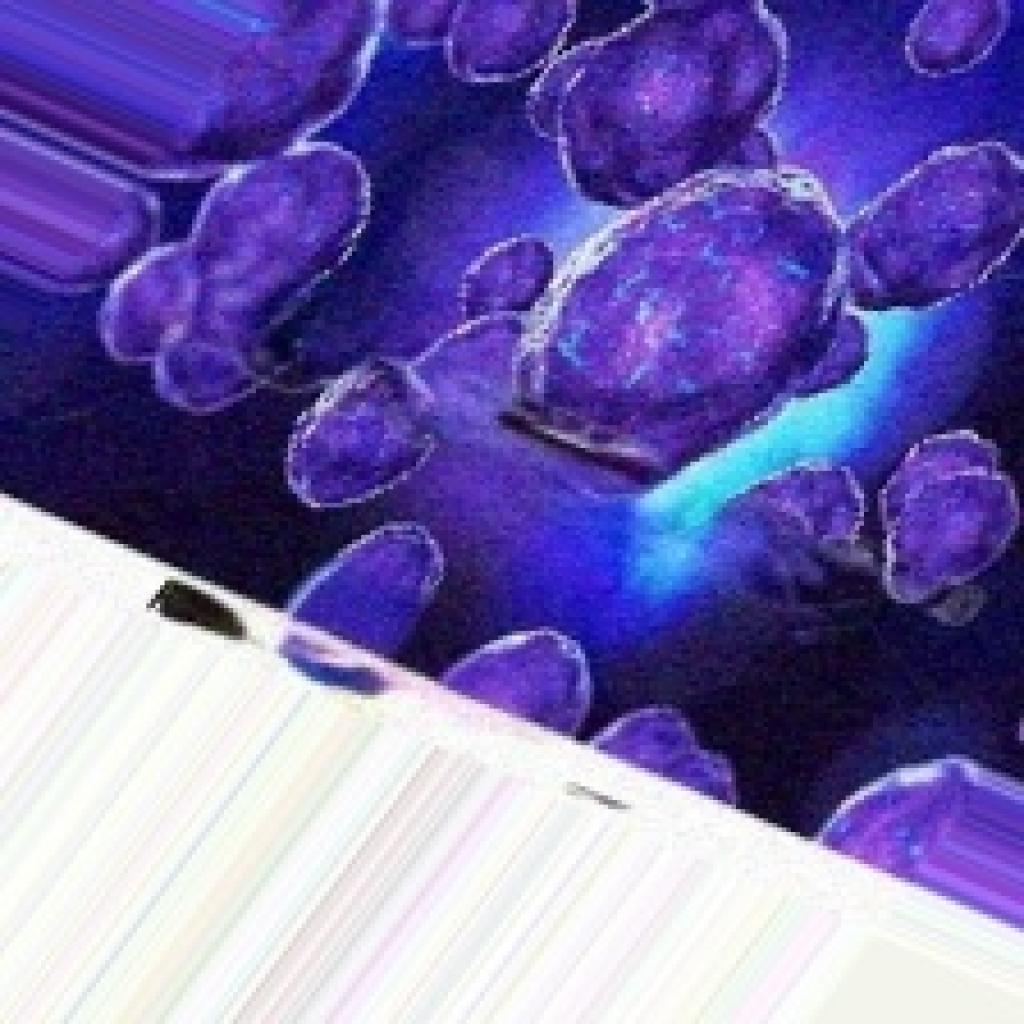Sphericalbacteria: (69, 0, 1023, 815)
